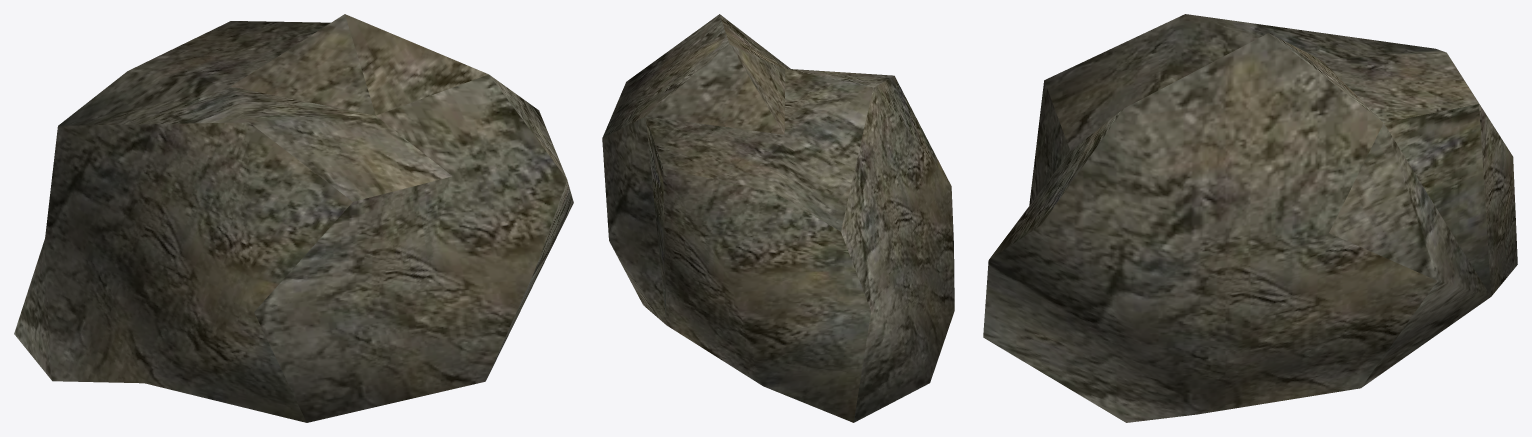
The model's file is MIN_LOB_STONE_V1_30.glb.
3 views of the same model, side by side, from view 1: azimuth 30°, elevation 25°; view 2: azimuth 150°, elevation 25°; view 3: azimuth 270°, elevation 25° (orthographic). The views are drawn at different scales.
Visible parts, largest first — view 1: Mesh; view 2: Mesh; view 3: Mesh.
Part boxes in pixels (x1,y1,x2,y2): Mesh: (14,14,573,422); Mesh: (602,14,954,422); Mesh: (983,14,1517,422).
Bounding box in the file's own units: 3.56 × 2.59 × 3.49.
Materials: 1 (1 with a texture image).
